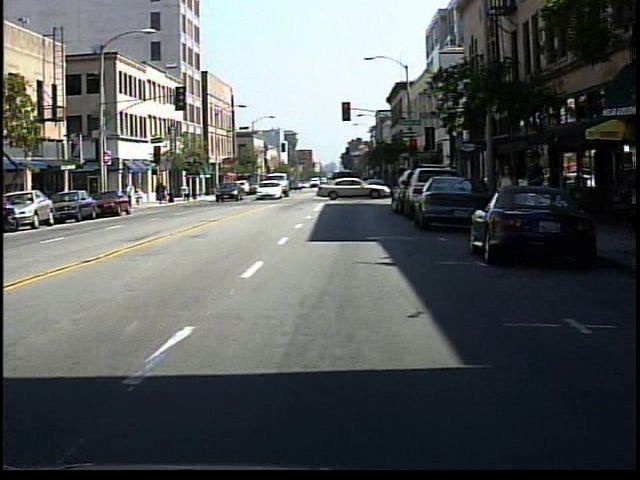person: (516, 147, 548, 246), (496, 155, 520, 241), (136, 183, 149, 209), (122, 178, 136, 202)
